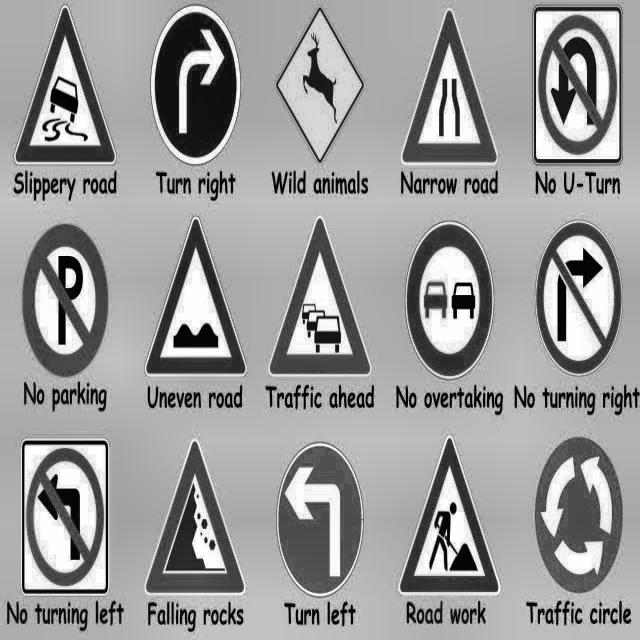signs: (274, 3, 384, 237), (525, 0, 640, 212), (398, 7, 512, 209), (10, 216, 119, 426), (9, 6, 121, 206), (146, 216, 252, 426), (266, 211, 375, 412), (148, 7, 246, 215), (145, 431, 249, 607), (396, 431, 502, 600), (18, 434, 120, 606), (265, 439, 371, 601), (535, 218, 629, 380), (533, 430, 623, 598), (406, 221, 494, 380)
